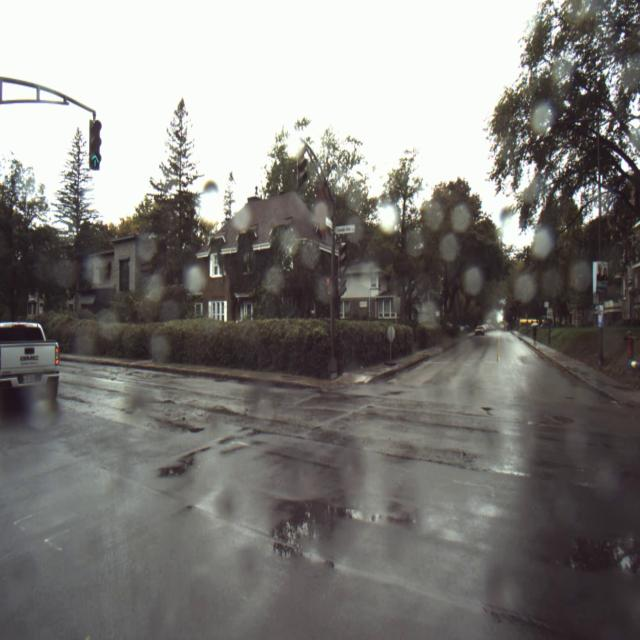car: (1, 322, 61, 405), (324, 275, 334, 298), (474, 323, 485, 335)
trafficLight: (337, 239, 347, 302)
trafficLight-Green: (90, 118, 100, 170)
